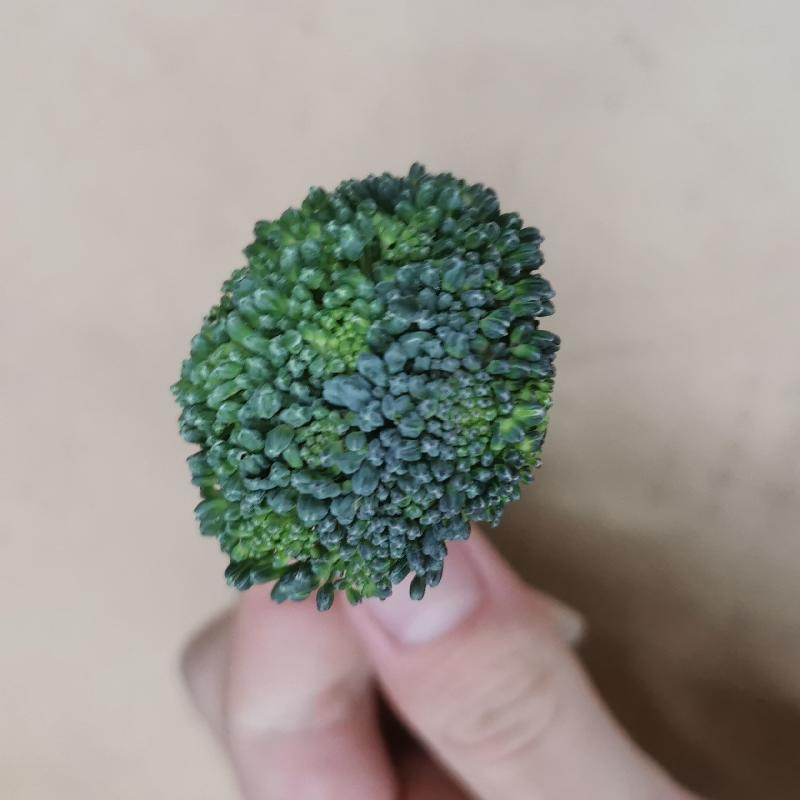broccoli: (166, 165, 561, 614)
